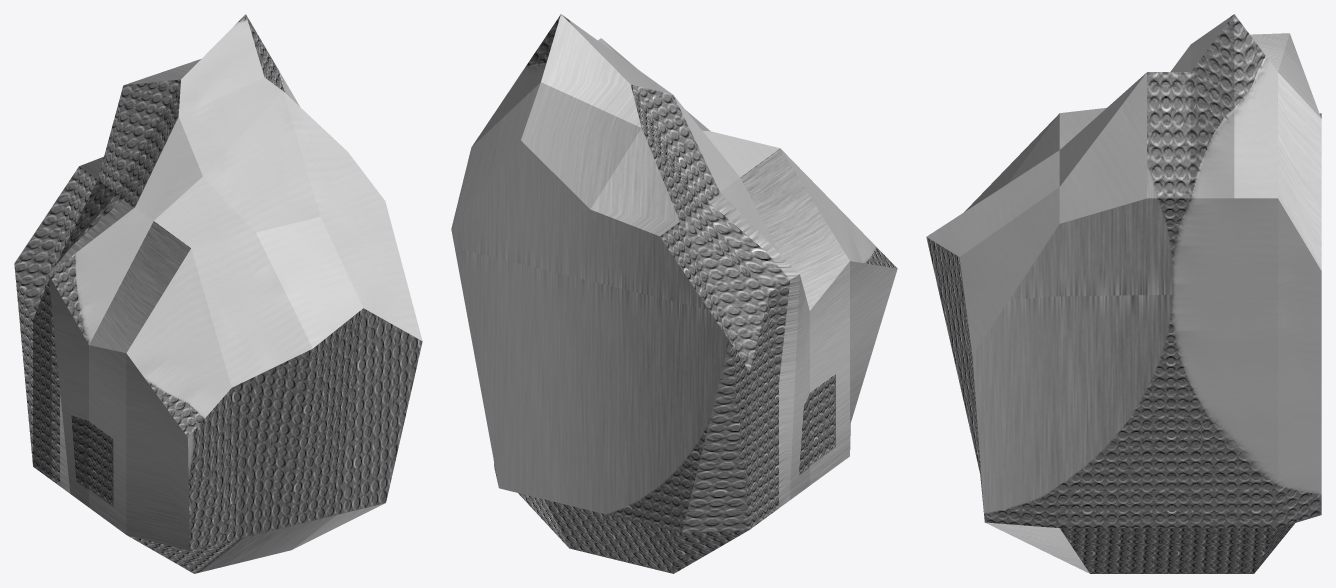
File: stone.fbx
3 renders of one model, left to right at view 1: azimuth 30°, elevation 25°; view 2: azimuth 150°, elevation 25°; view 3: azimuth 270°, elevation 25°, orthographic. The views are drawn at different scales.
Parts seen in each view (by area): view 1: Cube; view 2: Cube; view 3: Cube.
Boxes of the visible parts, x1,y1,x2,y2 form: Cube: (14, 14, 422, 573); Cube: (451, 14, 897, 573); Cube: (926, 14, 1321, 573).
Size of the model in its own units: 19.34 by 32.8 by 20.65.
